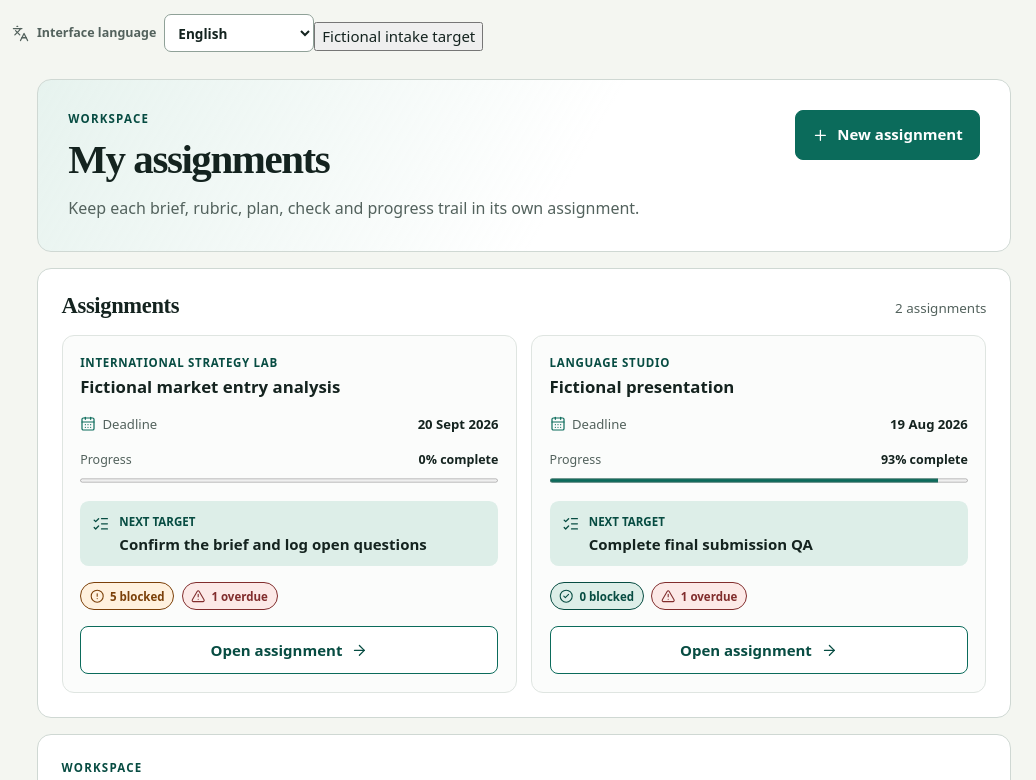
Test: MultiAssignmentDashboard › switches system copy to Simplified Chinese without translating user content
Select "English" in the dropdown: (239, 33) [164,14,314,52]
Select "Simplified Chinese" in the dropdown: (239, 33) [164,14,314,52]
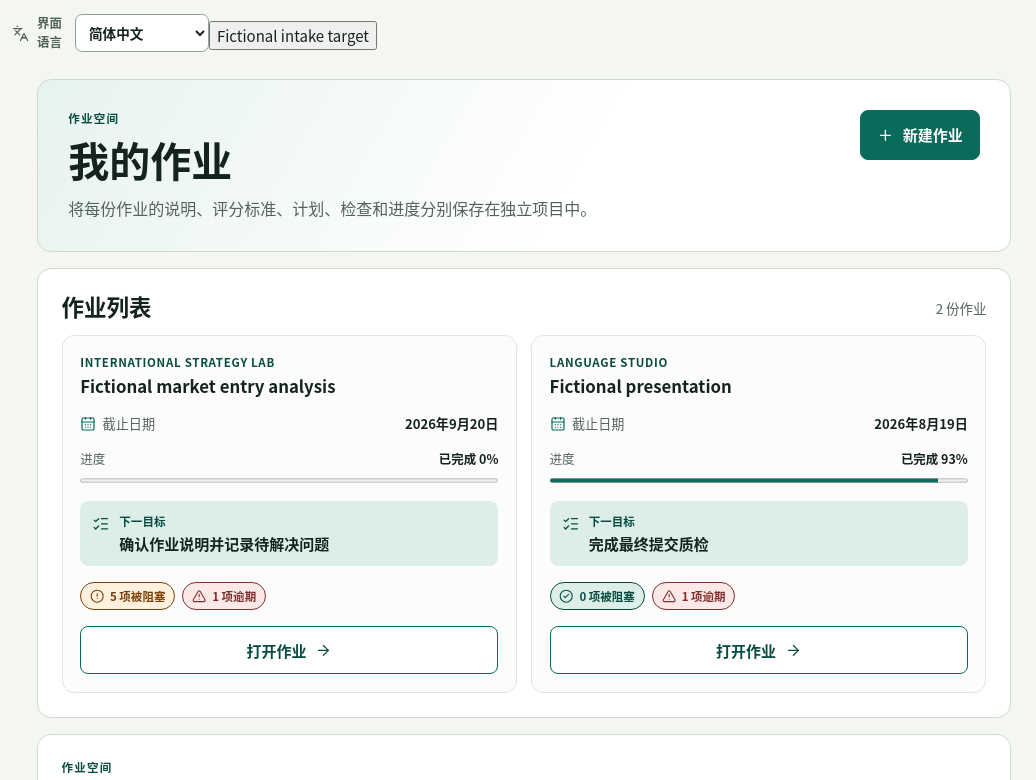
Check: the heading "我的作业" is shown, box [68,129,232,189]
Check: the button "新建作业" is shown, box [860,110,980,160]
Check: the text "确认作业说明并记录待解决问题" is shown, box [119,533,329,554]
